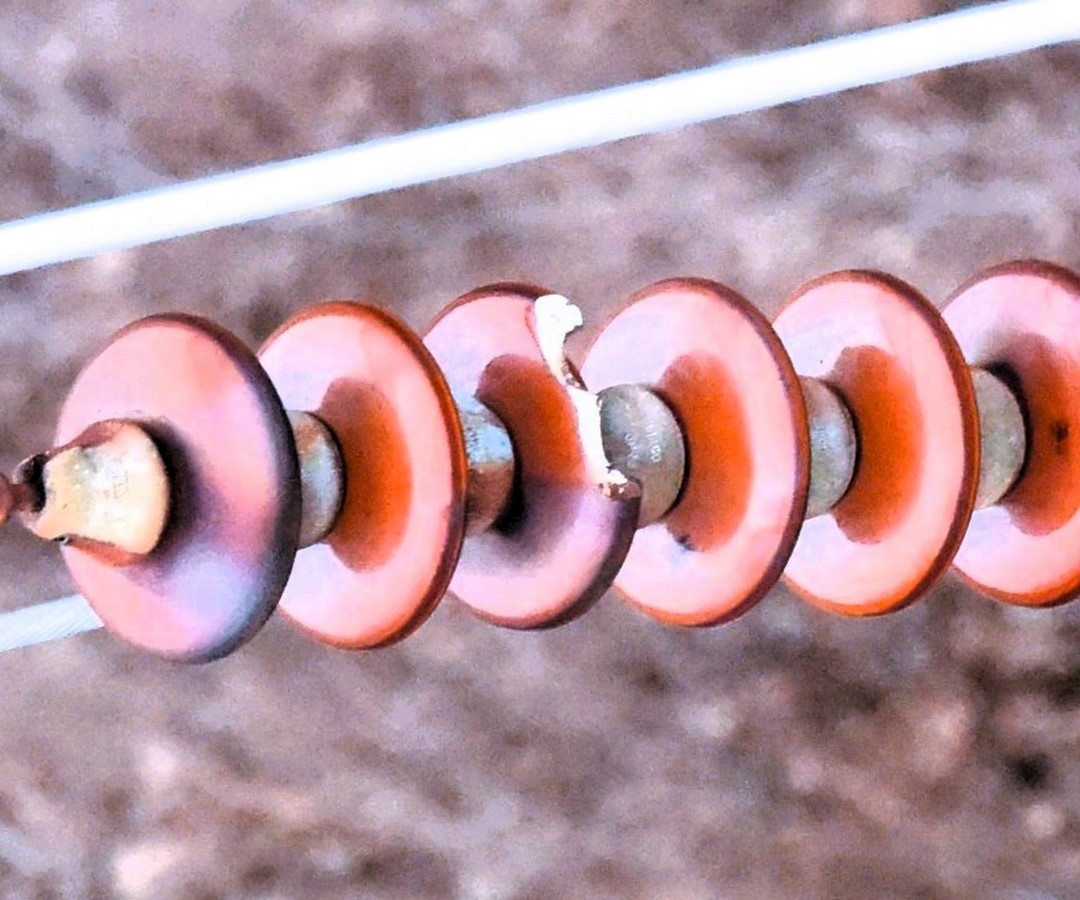insulator breakage: (409, 271, 650, 640)
